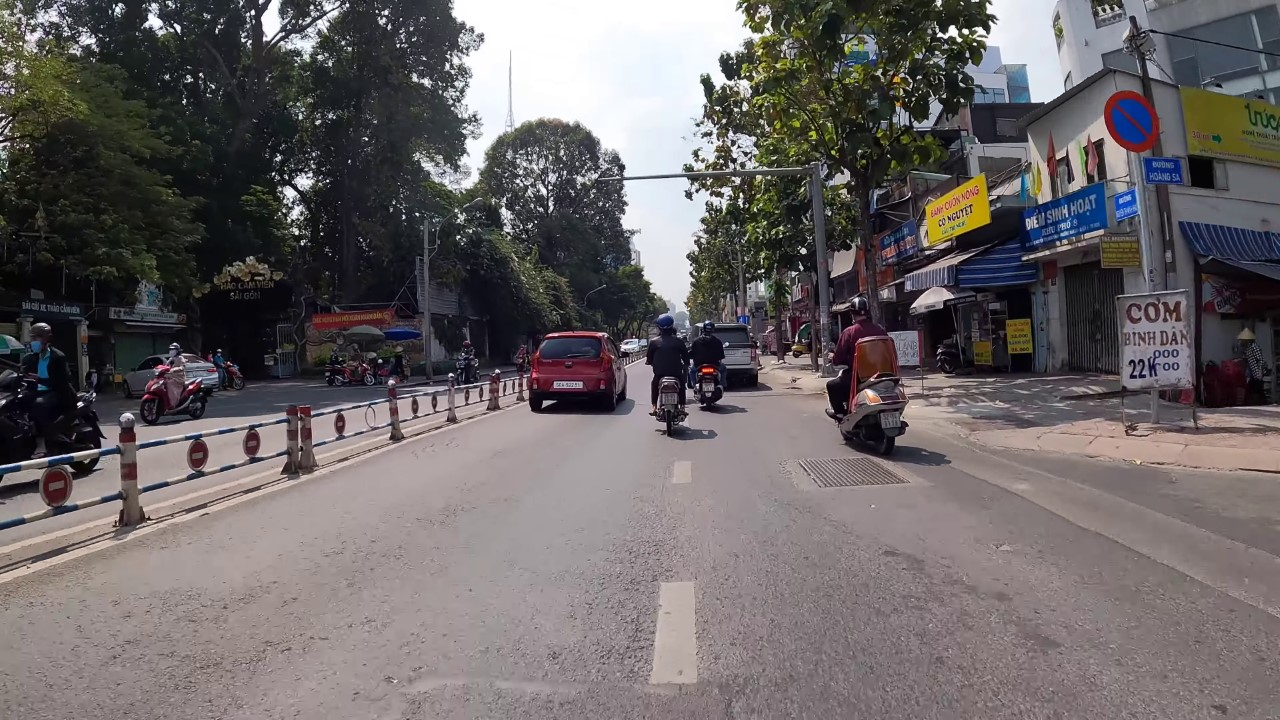cam_do_xe: (1099, 86, 1163, 157)
